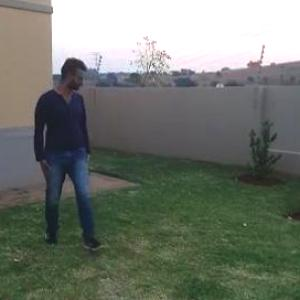follow: (35, 49, 106, 259)
